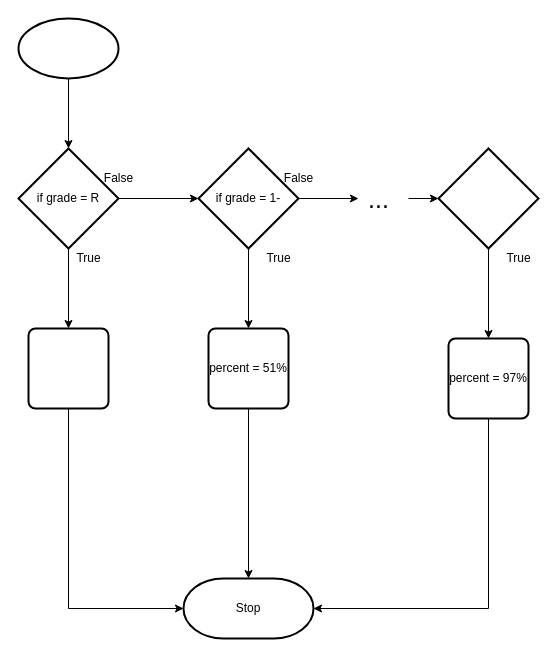
Image size: 556x656. Some labels were removed from this diagram. Each missing label, with the centre of its shape:
"if grade = 4+" belongs at [488,198].
"percent = 30%" belongs at [68,368].
"Start" belongs at [68,48].
